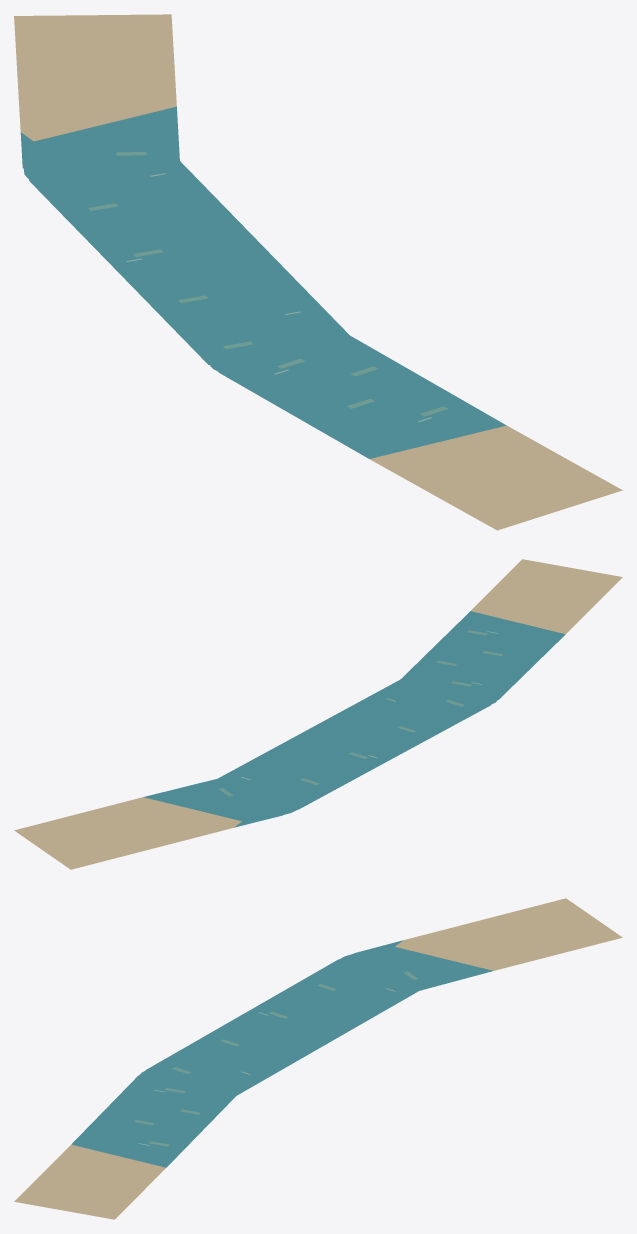
The model's file is route-steps_n-ford-water.glb.
3 views of the same model, one above another, from view 1: azimuth 30°, elevation 25°; view 2: azimuth 150°, elevation 25°; view 3: azimuth 330°, elevation 25° (orthographic). The views are drawn at different scales.
Visible parts, largest first — view 1: Surveyed floor · route-steps_n-ford-water, Jar Steps to Reed Ford / #76aaa0; view 2: Surveyed floor · route-steps_n-ford-water, Jar Steps to Reed Ford / #76aaa0; view 3: Surveyed floor · route-steps_n-ford-water, Jar Steps to Reed Ford / #76aaa0.
Part boxes in pixels (x1,y1,x2,y2): Surveyed floor · route-steps_n-ford-water: (14,14,622,530); Jar Steps to Reed Ford / #76aaa0: (88,152,448,416); Surveyed floor · route-steps_n-ford-water: (14,559,622,869); Jar Steps to Reed Ford / #76aaa0: (218,630,502,796); Surveyed floor · route-steps_n-ford-water: (14,898,622,1219); Jar Steps to Reed Ford / #76aaa0: (134,971,418,1146).
Bounding box in the file's own units: 13.16 × 0.3082 × 44.66.
